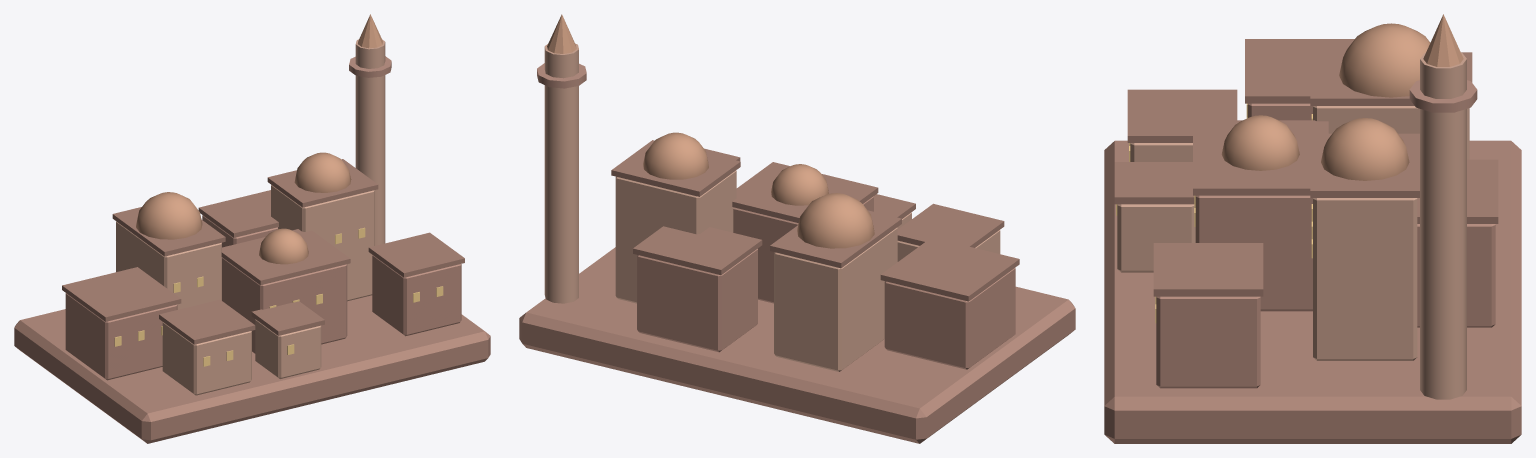
The model's file is skyline_town.glb.
3 views of the same model, side by side, from view 1: azimuth 30°, elevation 25°; view 2: azimuth 150°, elevation 25°; view 3: azimuth 270°, elevation 25° (orthographic). The views are drawn at different scales.
Parts seen in each view (by area): view 1: adobedark*0.9, adobedark, adobe.001, adobedark.001, adobedark.002, adobe, adobe.002, adobe.004, adobedark*0.8, adobedark*0.002, adobe.003, adobedark*0.004 (+11 smaller); view 2: adobedark*0.9, adobe, adobedark.003, adobedark, adobe.004, adobe.001, adobedark*0.8, adobedark*0.006, clay, adobedark*0.005, adobedark*0.002, clay.001 (+8 smaller); view 3: adobedark*0.9, adobe.001, adobe.004, adobedark.002, adobedark.001, adobedark*0.002, adobedark*0.004, clay, adobedark*0.005, adobedark*0.8, clay.001, adobe.003 (+11 smaller).
Part boxes in pixels (<box>): adobedark*0.9: <box>14,295,490,443</box>; adobedark: <box>65,293,177,380</box>; adobe.001: <box>271,185,374,301</box>; adobedark.001: <box>222,257,347,353</box>; adobedark.002: <box>372,255,461,336</box>; adobe: <box>116,221,221,309</box>; adobe.002: <box>162,322,251,395</box>; adobe.004: <box>355,39,385,245</box>; adobedark*0.8: <box>62,267,181,321</box>; adobedark*0.002: <box>221,229,350,285</box>; adobe.003: <box>255,319,321,378</box>; adobedark*0.004: <box>368,232,464,277</box>; adobedark*0.9: <box>519,247,1075,443</box>; adobe: <box>774,227,897,371</box>; adobedark.003: <box>637,248,757,352</box>; adobedark: <box>884,268,1015,369</box>; adobe.004: <box>544,43,578,303</box>; adobe.001: <box>615,170,736,303</box>; adobedark*0.8: <box>880,237,1019,301</box>; adobedark*0.006: <box>633,226,762,275</box>; clay: <box>797,193,874,248</box>; adobedark*0.005: <box>897,203,1004,247</box>; adobedark*0.002: <box>732,162,878,222</box>; clay.001: <box>643,132,708,179</box>; adobedark*0.9: <box>1104,140,1521,443</box>; adobe.001: <box>1313,198,1417,360</box>; adobe.004: <box>1420,52,1466,399</box>; adobedark.002: <box>1156,296,1260,388</box>; adobedark.001: <box>1195,195,1312,311</box>; adobedark*0.002: <box>1193,120,1328,195</box>; adobedark*0.004: <box>1153,243,1263,296</box>; clay: <box>1339,23,1430,97</box>; adobedark*0.005: <box>1127,89,1237,142</box>; adobedark*0.8: <box>1245,39,1354,103</box>; clay.001: <box>1321,118,1409,180</box>; adobe.003: <box>1117,204,1195,272</box>.
Bounding box in the file's own units: 24.24 × 17.9 × 16.
